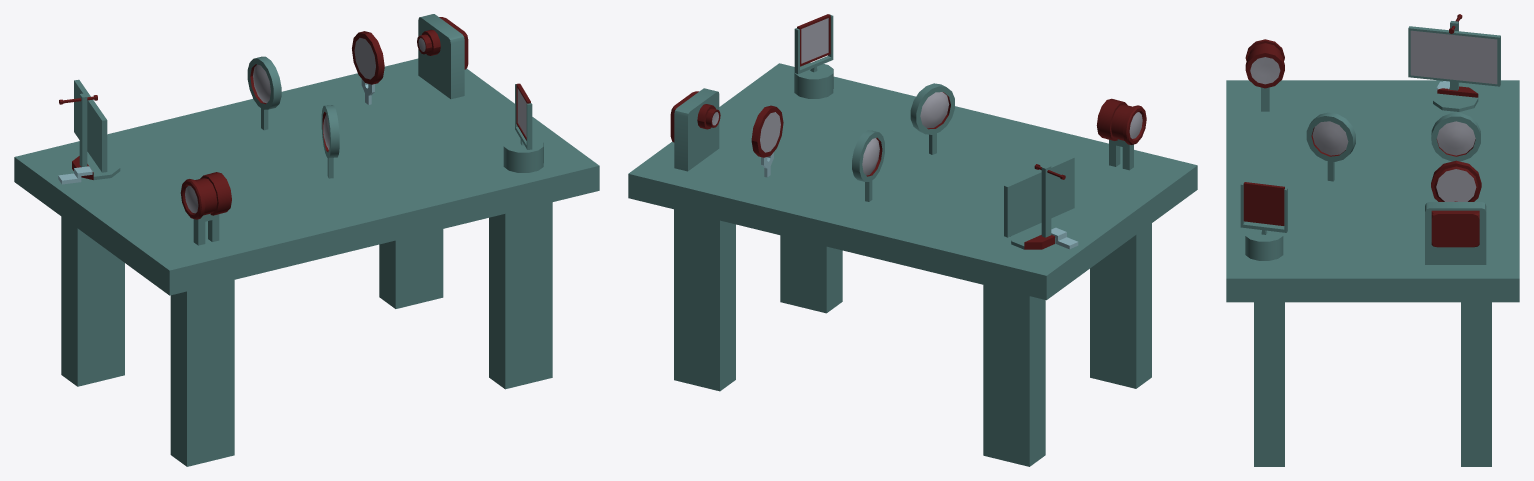
The model's file is espectropolarimetro_modelo_mesa_01.fbx.
3 renders of one model, left to right at view 1: azimuth 30°, elevation 25°; view 2: azimuth 150°, elevation 25°; view 3: azimuth 270°, elevation 25°, orthographic. The views are drawn at different scales.
Visible parts, largest first — view 1: mesa_polarimetro, camara, red__difraccion, polarimetro, soporte_espejo_02, lente_02, polarizador_lineal, lente_01; view 2: mesa_polarimetro, red__difraccion, camara, polarimetro, lente_01, soporte_espejo_02, lente_02, polarizador_lineal, espejo_02; view 3: mesa_polarimetro, red__difraccion, camara, lente_01, lente_02, polarimetro, polarizador_lineal, soporte_espejo_02, espejo_02.
Part boxes in pixels (x1,y1,x2,y2): mesa_polarimetro: [14, 58, 599, 466]; camara: [417, 14, 468, 99]; red__difraccion: [58, 79, 120, 184]; polarimetro: [180, 172, 231, 245]; soporte_espejo_02: [503, 84, 543, 172]; lente_02: [247, 56, 281, 130]; polarizador_lineal: [352, 31, 384, 104]; lente_01: [321, 105, 339, 178]; mesa_polarimetro: [628, 63, 1197, 466]; red__difraccion: [1004, 156, 1078, 249]; camara: [670, 88, 720, 171]; polarimetro: [1096, 98, 1146, 170]; lente_01: [910, 83, 954, 154]; soporte_espejo_02: [794, 14, 833, 98]; lente_02: [852, 130, 884, 201]; polarizador_lineal: [751, 105, 783, 177]; espejo_02: [797, 14, 830, 66]; mesa_polarimetro: [1226, 80, 1519, 466]; red__difraccion: [1408, 14, 1500, 111]; camara: [1425, 201, 1486, 264]; lente_01: [1306, 112, 1355, 181]; lente_02: [1431, 113, 1480, 161]; polarimetro: [1245, 39, 1284, 111]; polarizador_lineal: [1431, 160, 1481, 201]; soporte_espejo_02: [1240, 182, 1287, 260]; espejo_02: [1243, 182, 1284, 225].
Bounding box in the file's own units: 575 × 375 × 359.
